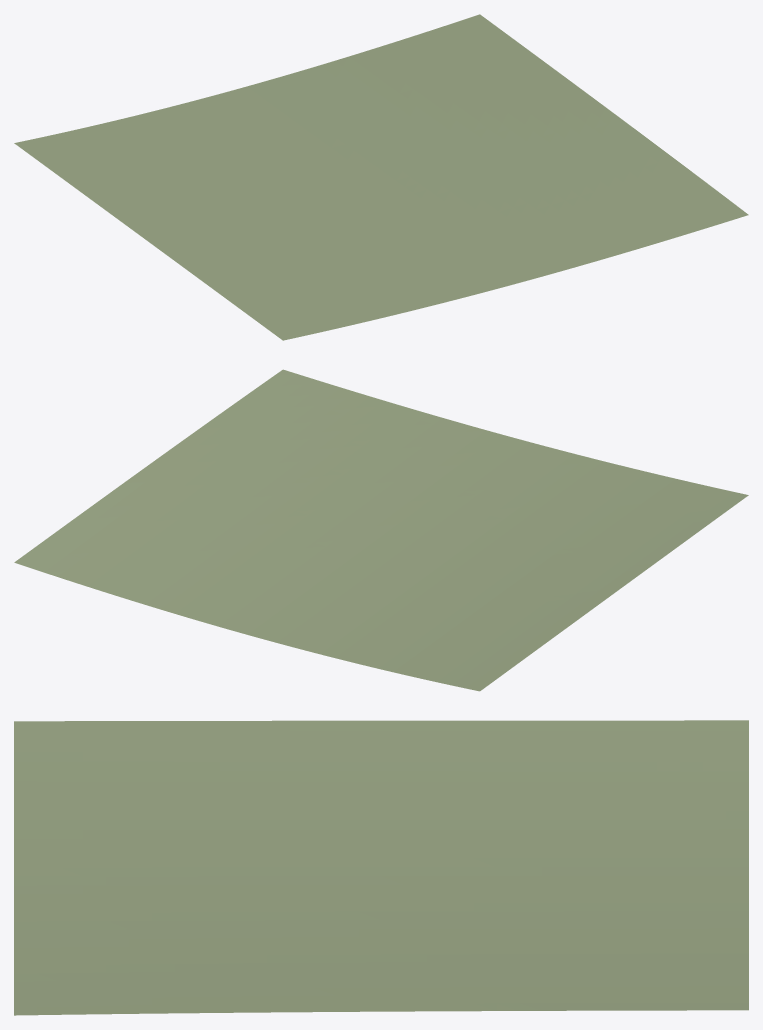
File: valley-13-6.glb
The picture shows the model from 3 angles, top to bottom: view 1: azimuth 30°, elevation 25°; view 2: azimuth 150°, elevation 25°; view 3: azimuth 270°, elevation 25°; orthographic projection. The views are drawn at different scales.
Visible parts, largest first — view 1: valley-13-6; view 2: valley-13-6; view 3: valley-13-6.
Part boxes in pixels (<box>): valley-13-6: <box>14,14,748,340</box>; valley-13-6: <box>14,369,748,691</box>; valley-13-6: <box>14,720,748,1015</box>.
Bounding box in the file's own units: 256 × 9.12 × 256.
